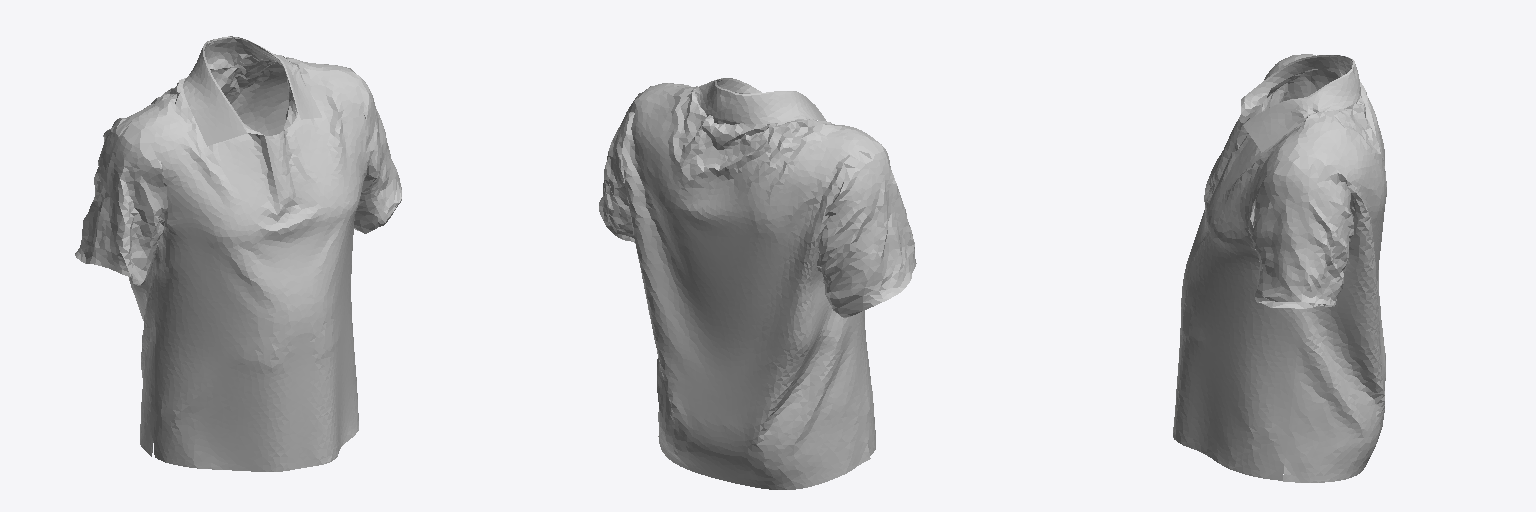
File: Medium_Tall.obj
The picture shows the model from 3 angles: view 1: azimuth 30°, elevation 25°; view 2: azimuth 150°, elevation 25°; view 3: azimuth 270°, elevation 25°; orthographic projection.
Visible parts, largest first — view 1: polo3-30.004; view 2: polo3-30.004; view 3: polo3-30.004.
Part boxes in pixels (bbox=[...]): polo3-30.004: bbox=[75, 36, 401, 471]; polo3-30.004: bbox=[599, 78, 916, 489]; polo3-30.004: bbox=[1173, 54, 1386, 482].
Size of the model in its own units: 0.6235 by 0.7385 by 0.3746.